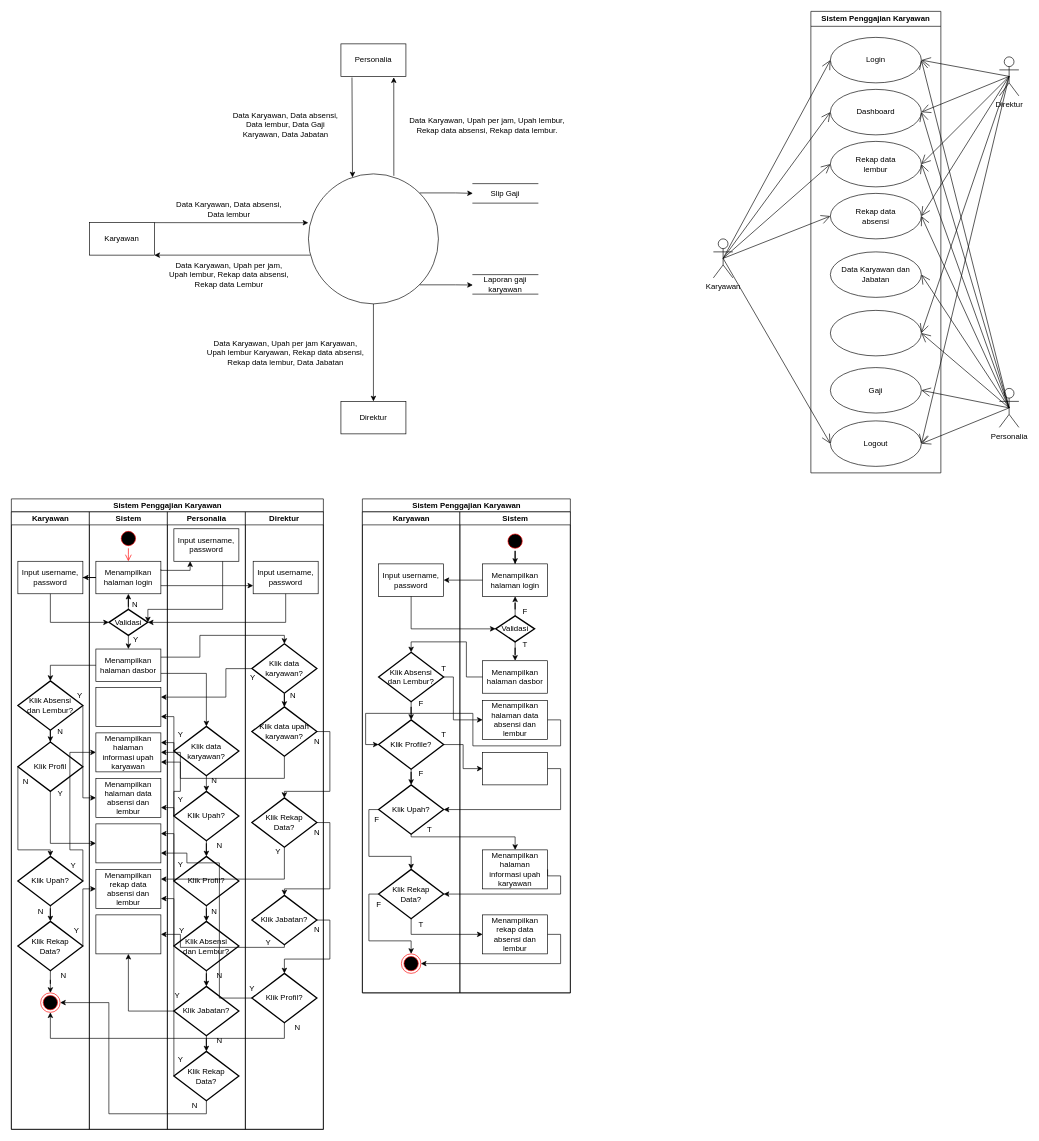
Image size: 1039x1141. Some labels were removed from this diagram. Each missing label, with the centre of its shape:
"Menampilkan halaman data jabatan" goes at point (128, 934).
"Menampilkan halaman informasi data karyawan" goes at point (128, 706).
"Menampilkan halaman profil" goes at point (128, 843).
"Menampilkan halaman profile" goes at point (515, 768).
"Report gaji karyawan" goes at point (875, 333).
"Sistem Informasi Penggajian Karyawan" goes at point (373, 238).
